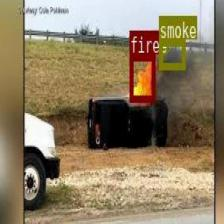fire: (129, 53, 154, 101)
smoke: (130, 53, 154, 101), (159, 38, 185, 68)
